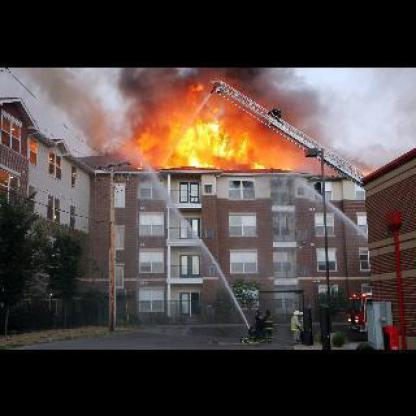fire: (125, 77, 274, 170)
